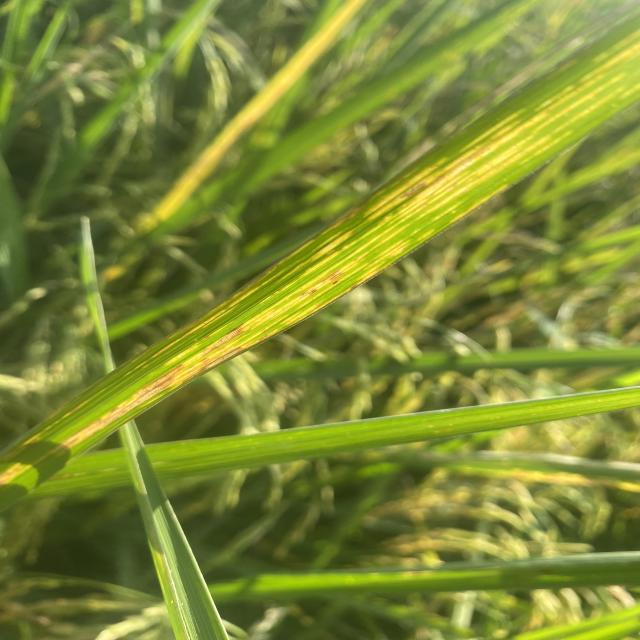Dom soc vi khuan: (49, 364, 185, 457), (151, 268, 286, 358), (182, 346, 246, 383), (197, 327, 244, 358), (299, 270, 345, 298), (163, 342, 198, 367)
